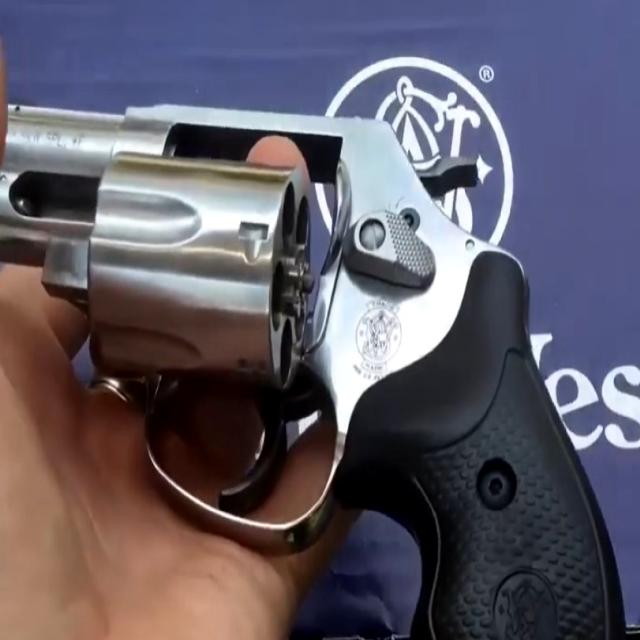revolver: (0, 37, 636, 634)
